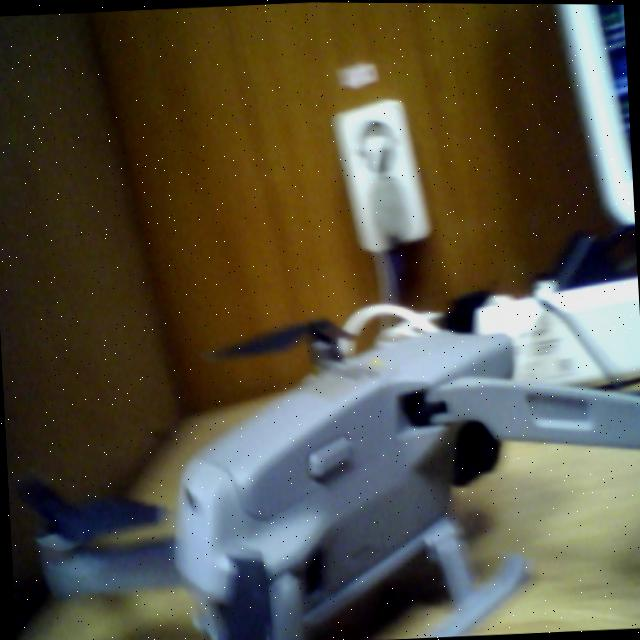drone: (23, 271, 640, 640)
